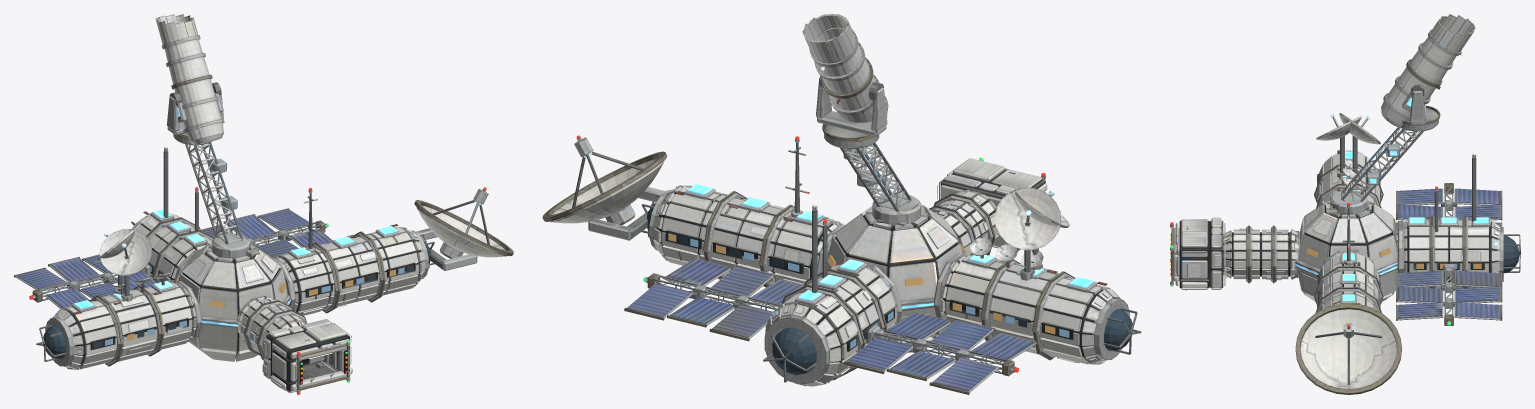
The model's file is research_outpost.glb.
The picture shows the model from 3 angles, left to right: view 1: azimuth 30°, elevation 25°; view 2: azimuth 150°, elevation 25°; view 3: azimuth 270°, elevation 25°; orthographic projection. The views are drawn at different scales.
Parts seen in each view (by area): view 1: Hull, Lights, Glazing; view 2: Hull, Glazing, Lights; view 3: Hull, Lights, Glazing.
Boxes of the visible parts, x1,y1,x2,y2 form: Hull: (14,14,513,393); Lights: (29,145,486,394); Glazing: (43,241,430,358); Hull: (542,14,1141,394); Glazing: (647,203,1132,375); Lights: (576,66,1069,372); Hull: (1170,14,1520,394); Lights: (1170,52,1481,327); Glazing: (1317,176,1519,307).
Size of the model in its own units: 81.48 by 49.82 by 55.97.
Materials: 3 (2 with a texture image).
